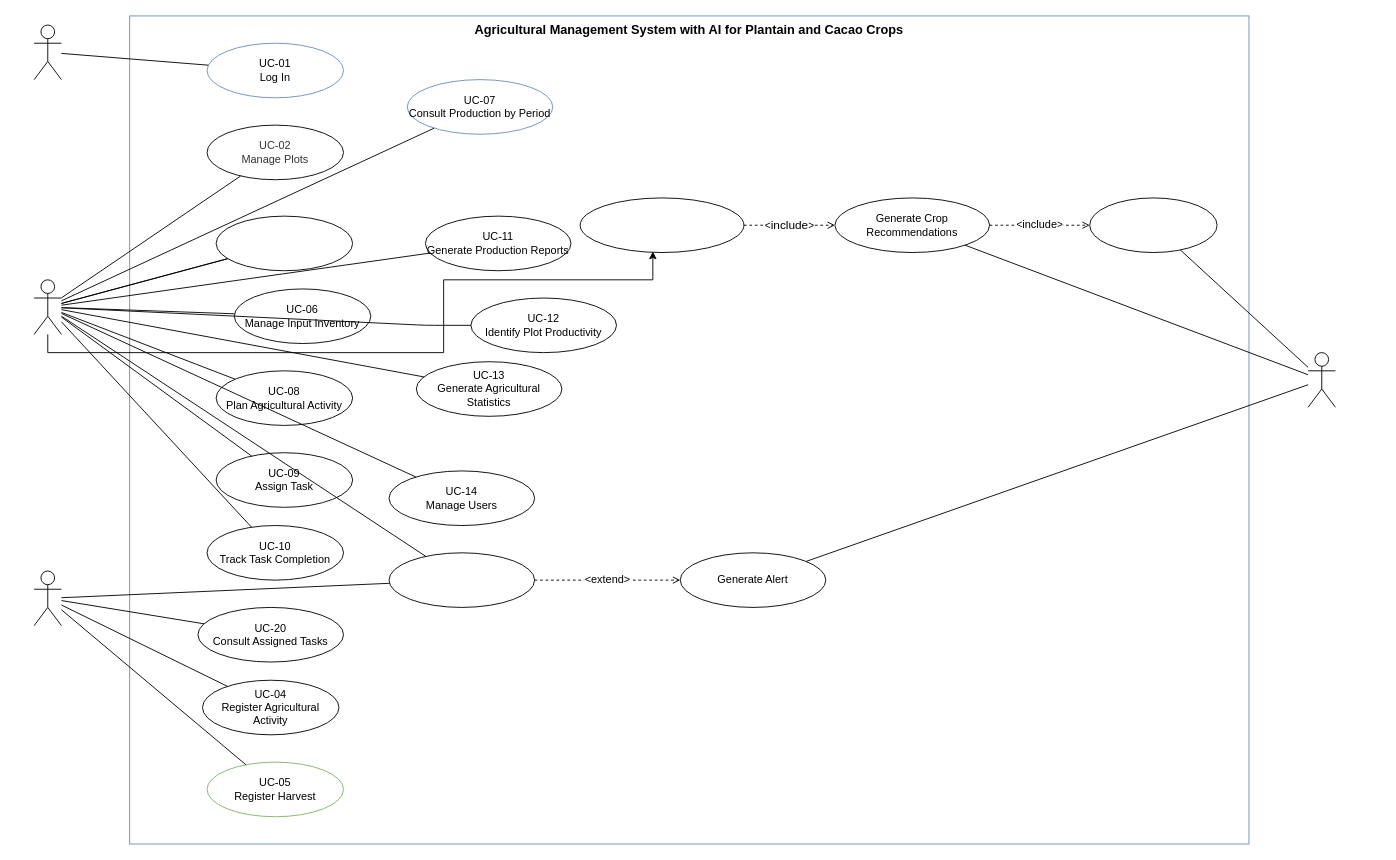
The diagram is 1396 pixels wide and 860 high, and some of its shapes have lost their labels. Each missing label, with the box of its shape:
Administrator: (33, 279, 61, 334)
AI (Artificial Intelligence): (1307, 352, 1335, 407)
Analyze Crop Data: (1089, 197, 1217, 253)
Farmworker: (33, 570, 61, 626)
UC-03 Manage Crops: (215, 215, 353, 271)
UC-15 Consult AI Recommendations: (579, 197, 744, 253)
UC-16 Register Crop Disease: (388, 552, 535, 607)
User: (33, 24, 61, 80)
